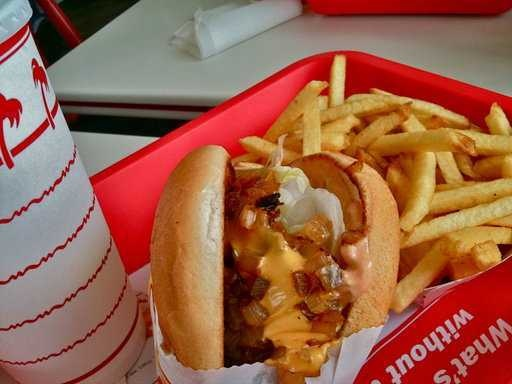hamburger: (123, 139, 405, 362)
